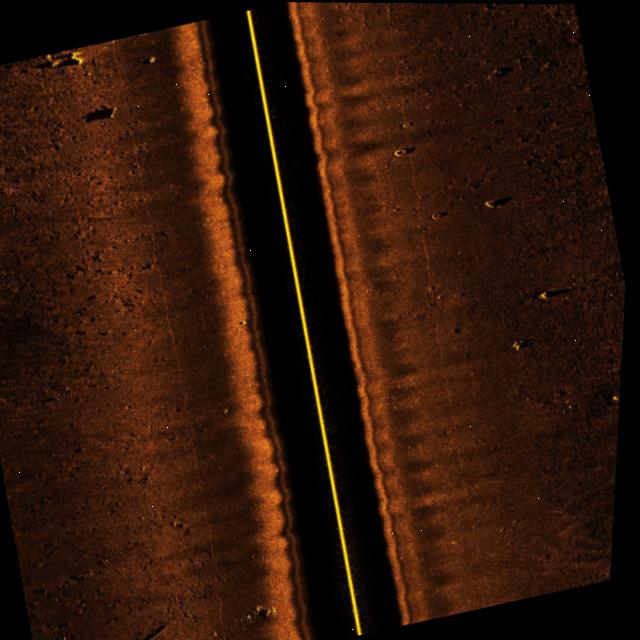mine: (35, 43, 102, 78), (535, 276, 585, 310), (82, 100, 124, 127)
other: (124, 617, 185, 640), (391, 144, 407, 159)
